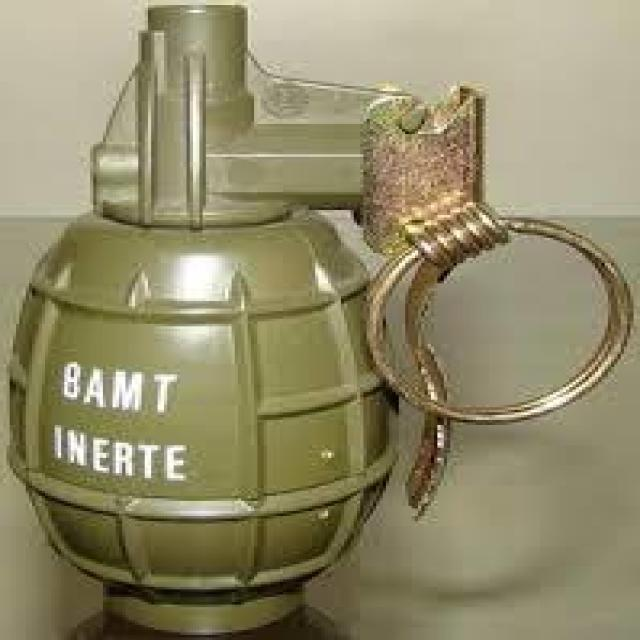grenade: (0, 4, 637, 639)
